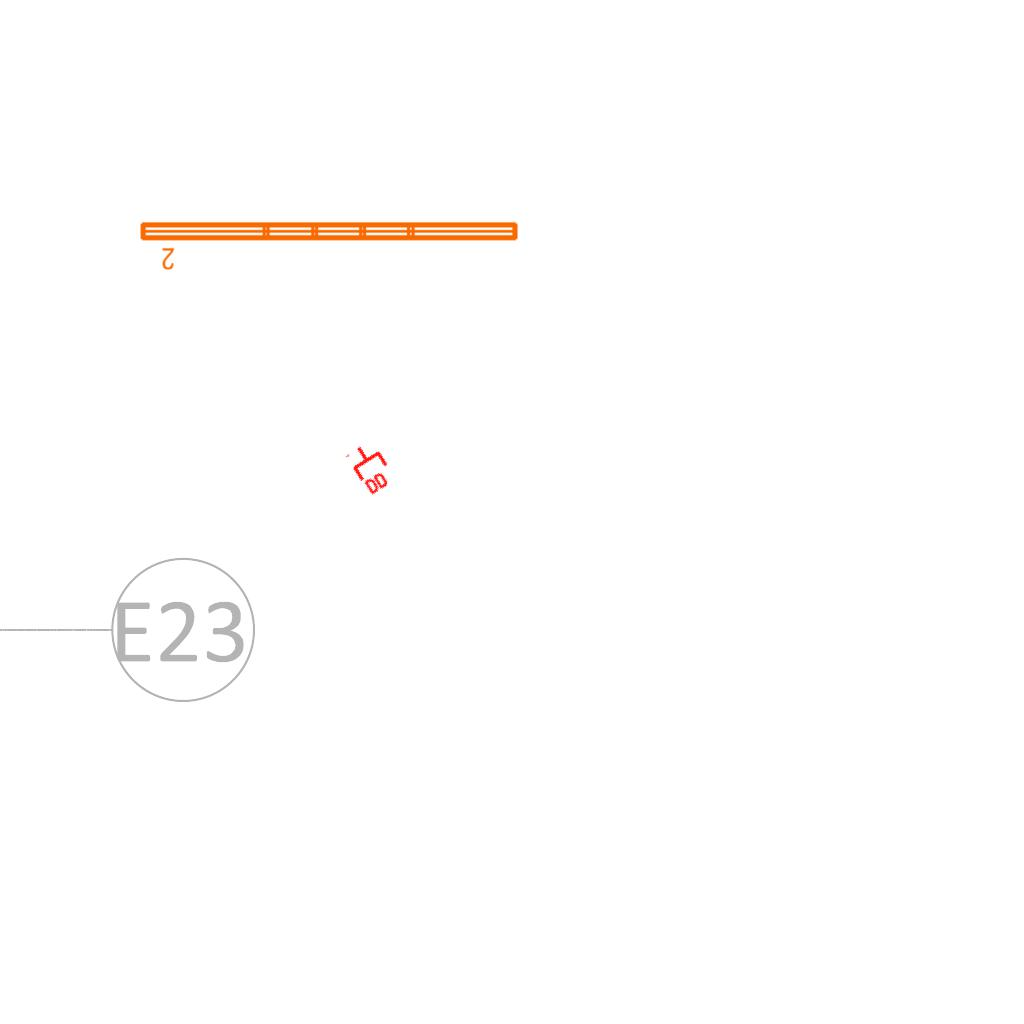Ambulanz_Pendelleuchte_LED: (136, 216, 523, 272)
Datenanschluss_zweifach: (344, 436, 400, 499)
